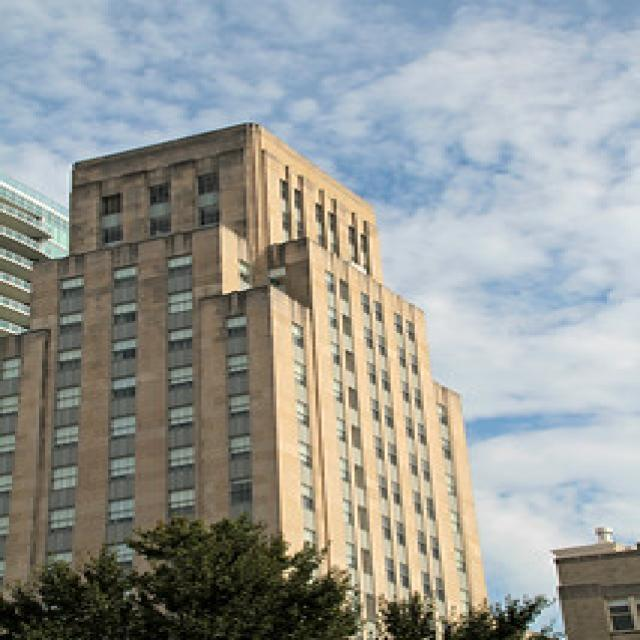Normal_building: (4, 114, 510, 640)
